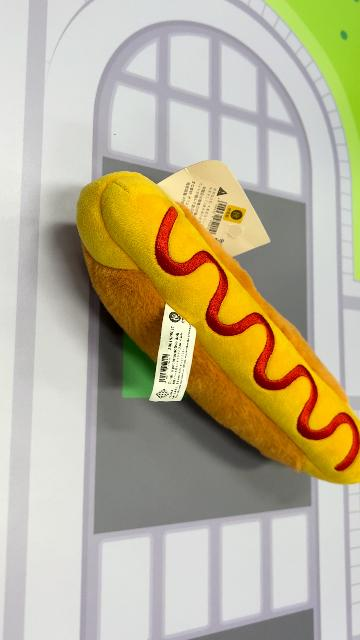hotdog: (75, 169, 358, 486)
